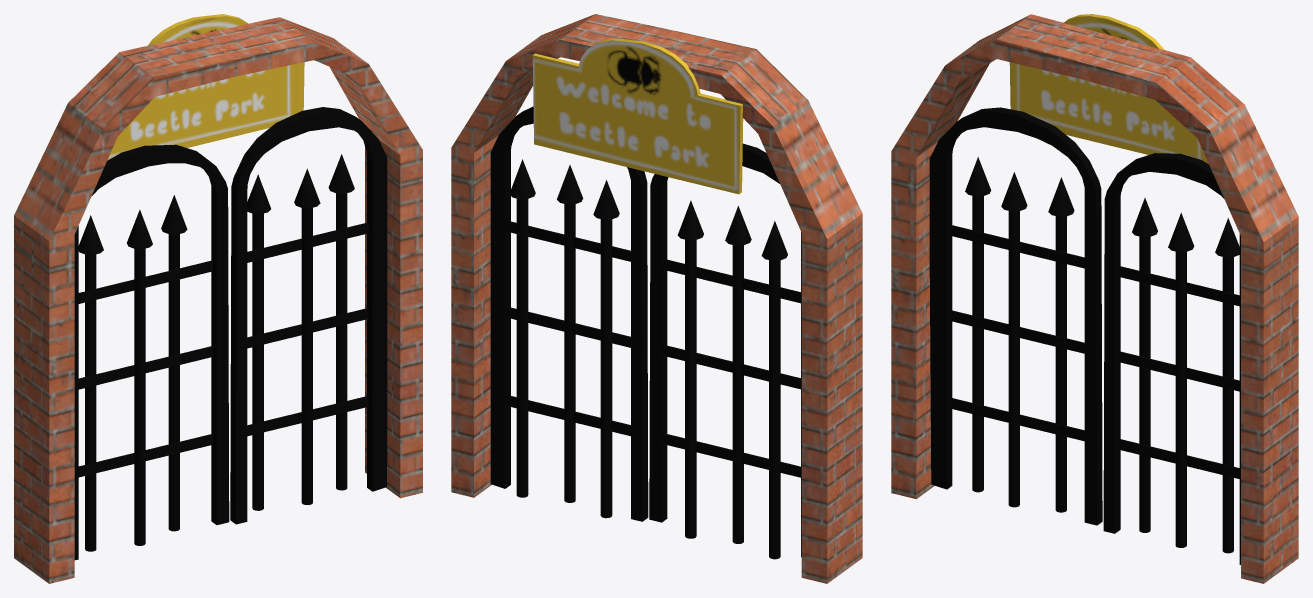
The model's file is parkGate.fbx.
3 renders of one model, left to right at view 1: azimuth 30°, elevation 25°; view 2: azimuth 150°, elevation 25°; view 3: azimuth 330°, elevation 25°, orthographic.
Parts seen in each view (by area): view 1: parkGate; view 2: parkGate; view 3: parkGate.
Part boxes in pixels (x1,y1,x2,y2): parkGate: [14, 14, 422, 583]; parkGate: [451, 14, 862, 583]; parkGate: [891, 14, 1298, 583].
Size of the model in its own units: 376 by 476 by 65.47.
Materials: 1 (1 with a texture image).
